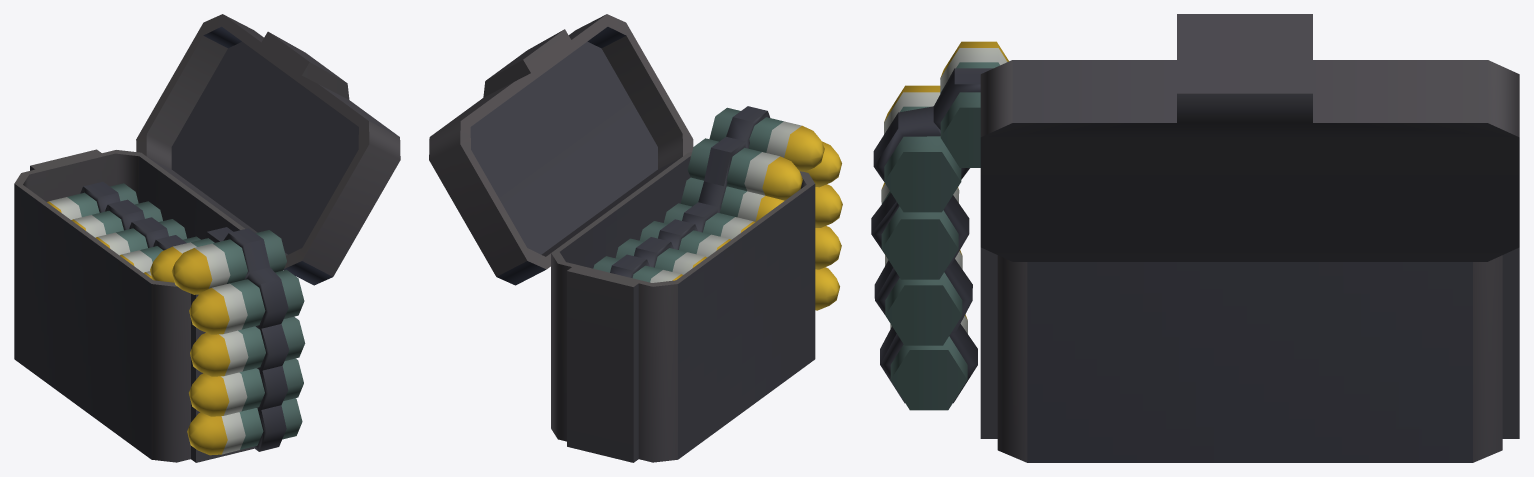
File: GrenadeLauncher_Box.fbx
3 views of the same model, side by side, from view 1: azimuth 30°, elevation 25°; view 2: azimuth 150°, elevation 25°; view 3: azimuth 270°, elevation 25° (orthographic). The views are drawn at different scales.
Visible parts, largest first — view 1: GrenadeLauncher_Box, GrenadeLauncher_Ammo; view 2: GrenadeLauncher_Box, GrenadeLauncher_Ammo; view 3: GrenadeLauncher_Box, GrenadeLauncher_Ammo.
Boxes of the visible parts, left/top/right/bottom form: GrenadeLauncher_Box: left=14, top=14, right=400, bottom=462; GrenadeLauncher_Ammo: left=47, top=181, right=305, bottom=455; GrenadeLauncher_Box: left=429, top=14, right=815, bottom=462; GrenadeLauncher_Ammo: left=593, top=106, right=842, bottom=310; GrenadeLauncher_Box: left=980, top=14, right=1519, bottom=462; GrenadeLauncher_Ammo: left=871, top=41, right=1008, bottom=410.
Bounding box in the file's own units: 54.69 × 67.3 × 77.52.
